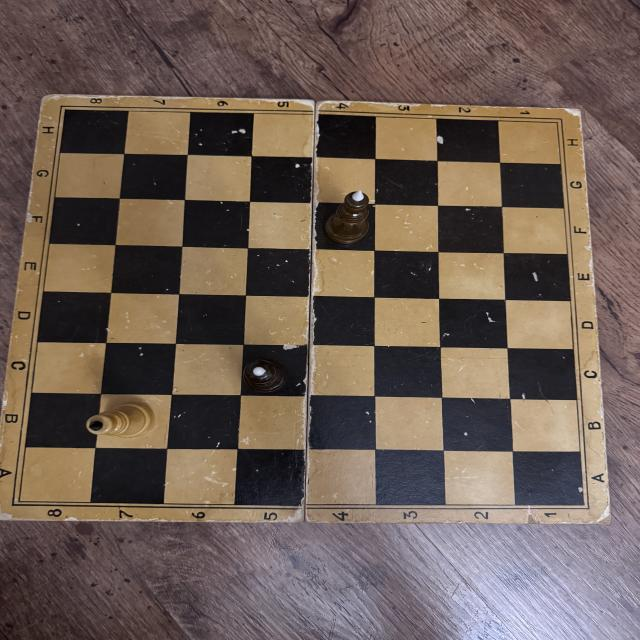black-king: (324, 189, 374, 246)
black-queen: (239, 357, 288, 392)
white-king: (84, 400, 154, 440)
